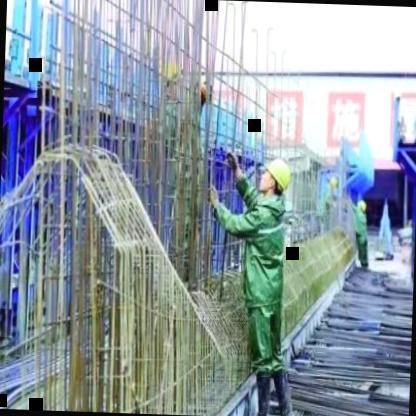helmet: (259, 158, 293, 198)
